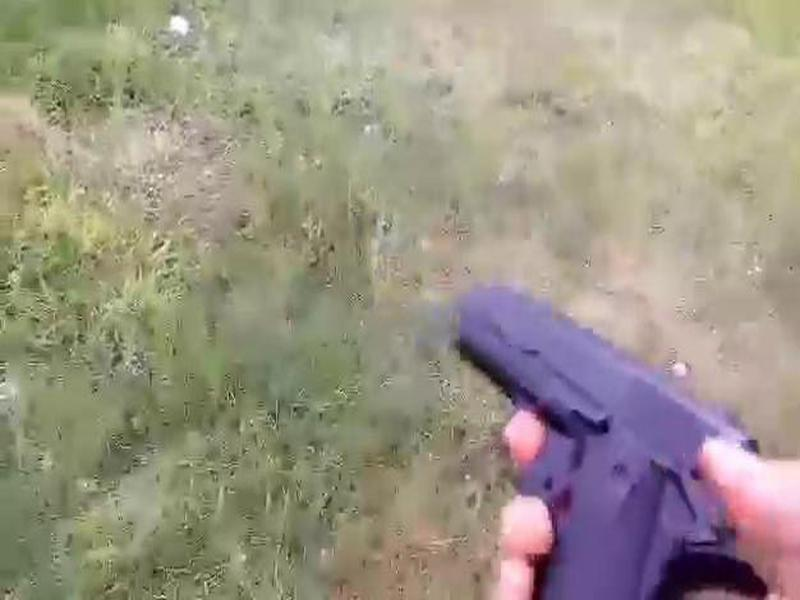Pistola: (439, 266, 768, 600)
